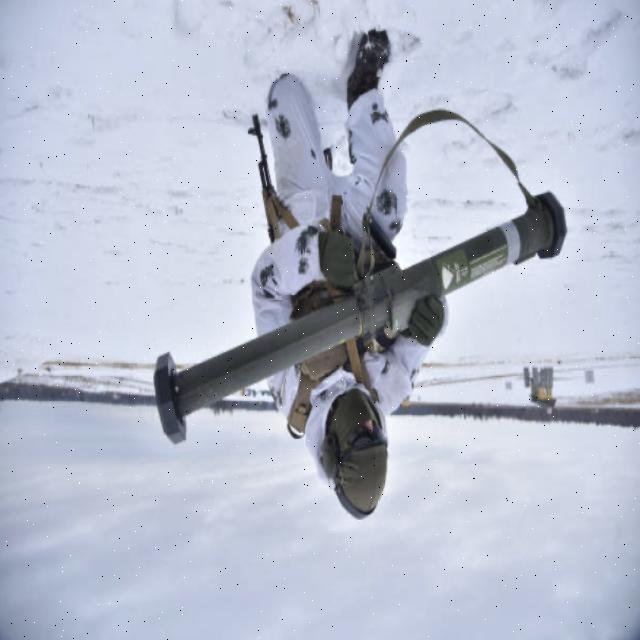bazooka: (149, 162, 592, 451)
